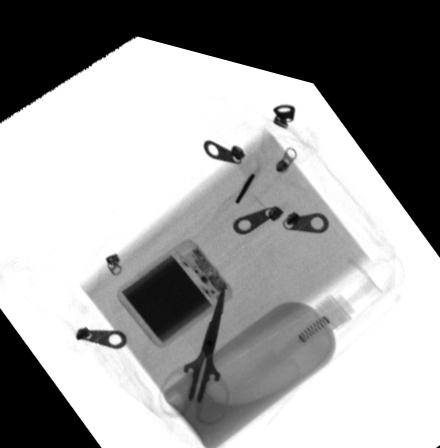Powerbank: (116, 229, 233, 341)
Scissors: (155, 270, 232, 414)
